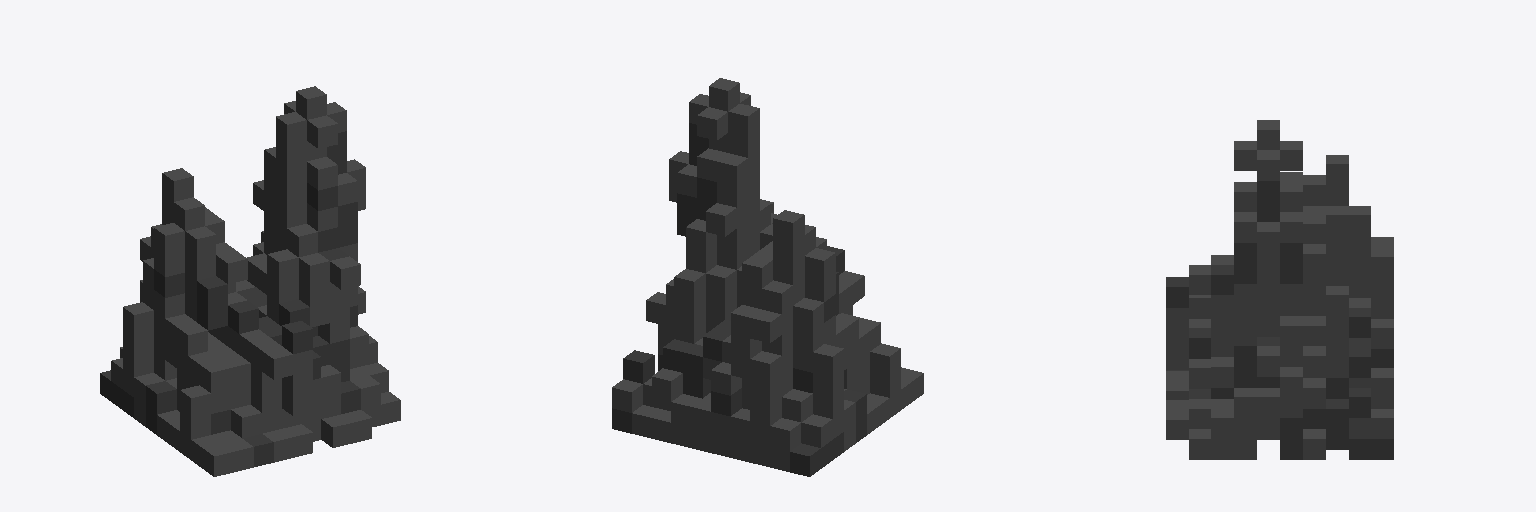
3 views of the same model, side by side, from view 1: azimuth 30°, elevation 25°; view 2: azimuth 150°, elevation 25°; view 3: azimuth 270°, elevation 25° (orthographic).
Visible parts, largest first — view 1: object 1; view 2: object 1; view 3: object 1.
Part boxes in pixels (bbox=[...]): object 1: bbox=[100, 86, 400, 476]; object 1: bbox=[612, 78, 923, 476]; object 1: bbox=[1166, 120, 1393, 459].
Size of the model in its own units: 1 by 1.5 by 1.
Materials: 1 (1 with a texture image).